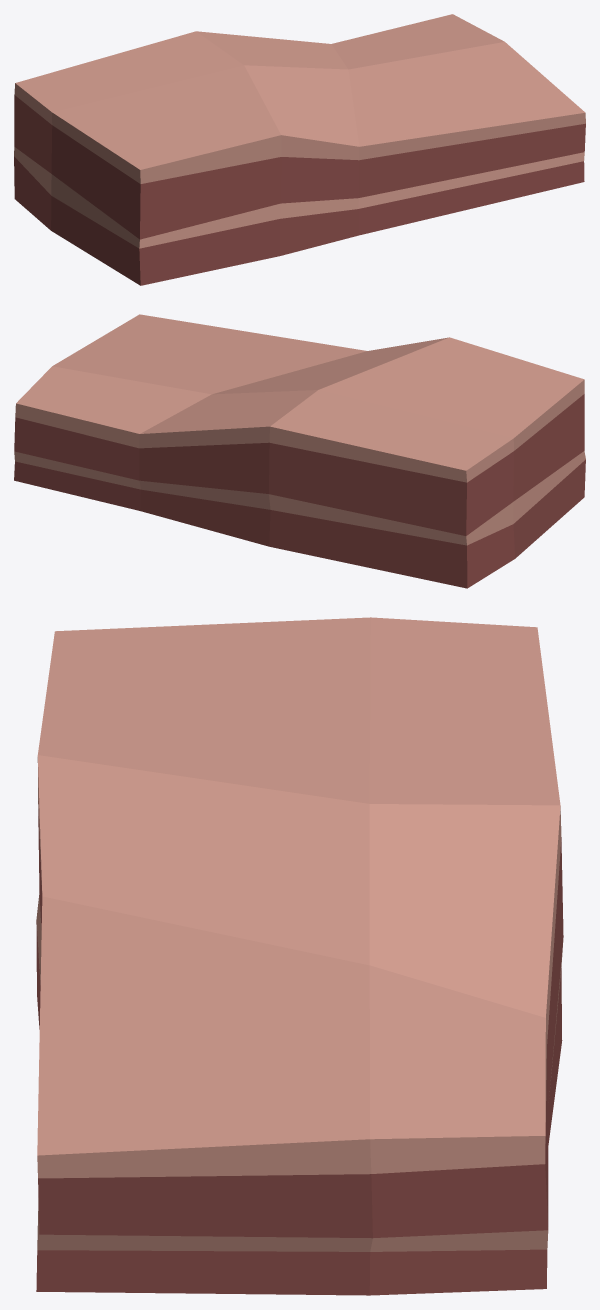
File: porkBelly.fbx
3 views of the same model, one above another, from view 1: azimuth 30°, elevation 25°; view 2: azimuth 150°, elevation 25°; view 3: azimuth 270°, elevation 25° (orthographic). The views are drawn at different scales.
Visible parts, largest first — view 1: porkBelly; view 2: porkBelly; view 3: porkBelly.
Boxes of the visible parts, x1,y1,x2,y2 form: porkBelly: (14, 14, 585, 285); porkBelly: (14, 314, 585, 588); porkBelly: (36, 617, 563, 1295).
Bounding box in the file's own units: 50.8 × 12.86 × 25.47.
Materials: 1 (1 with a texture image).
